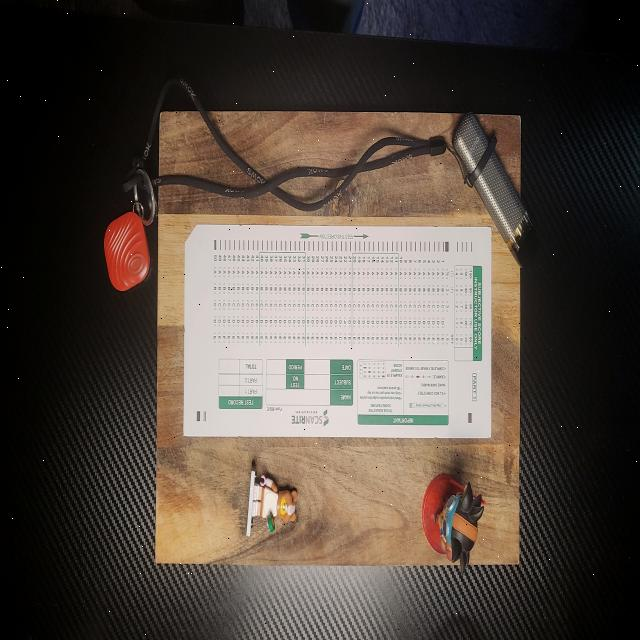scantron: (183, 224, 492, 438)
